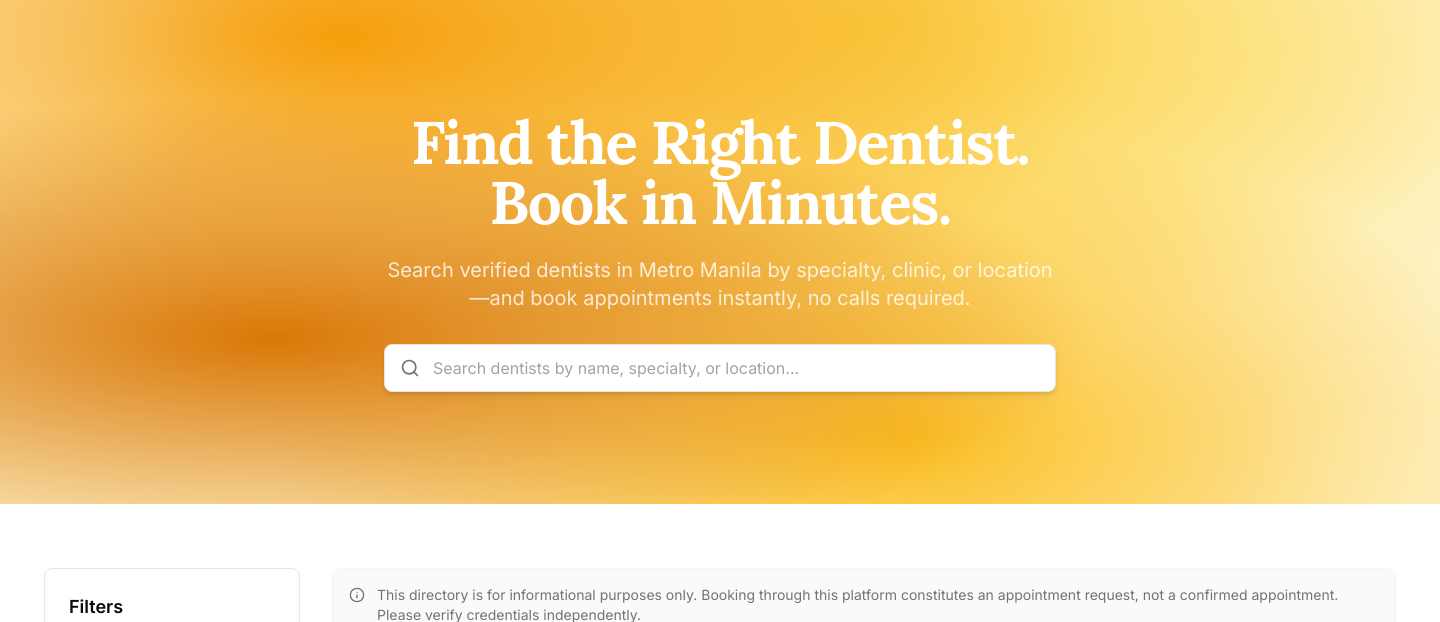
Test: Find a Dentist Directory Page › Search Functionality › filters dentists by specialty
Search for "Orthodontics"
Step 1. Type "Orthodontics" into the field with placeholder "Search dentists by name, specialty, or location..." → (720, 368), box x1=384 y1=344 x2=1056 y2=392
(page scrolled)
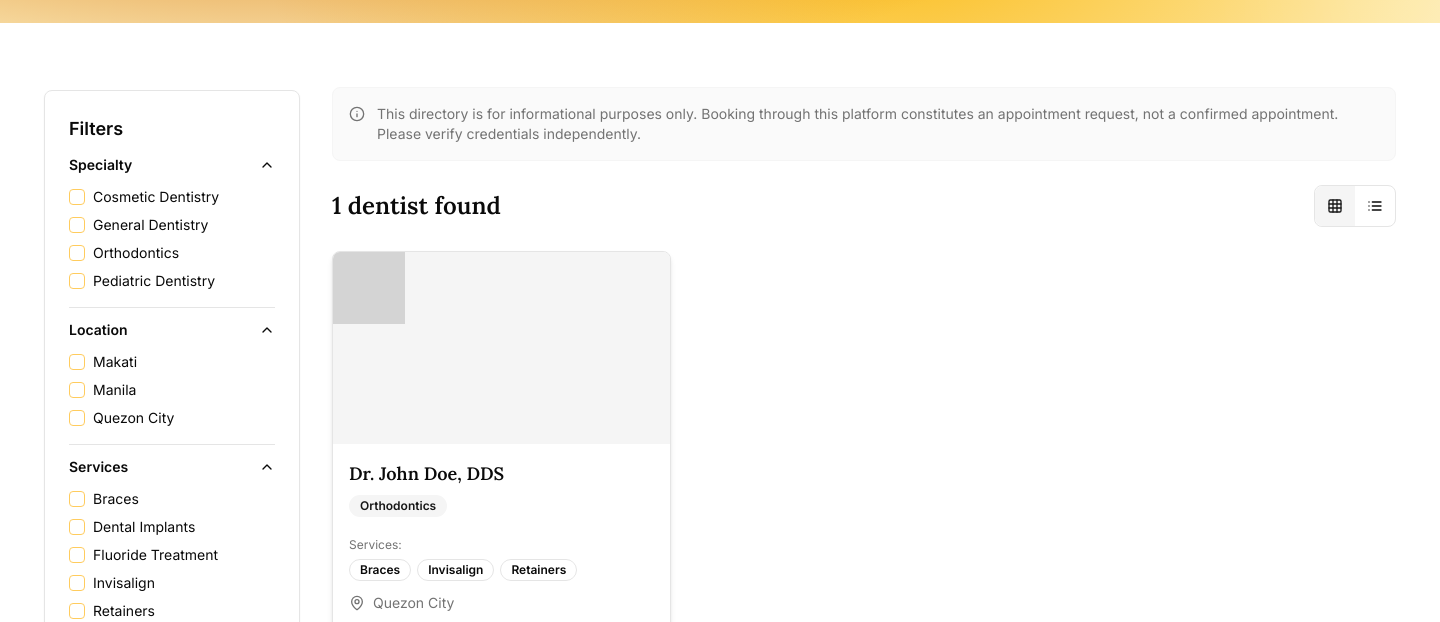
expect the heading "Dr. John Doe, DDS" is shown: met, box x1=349 y1=462 x2=504 y2=485
expect the heading "1 dentist found" is shown: met, box x1=332 y1=190 x2=501 y2=222
